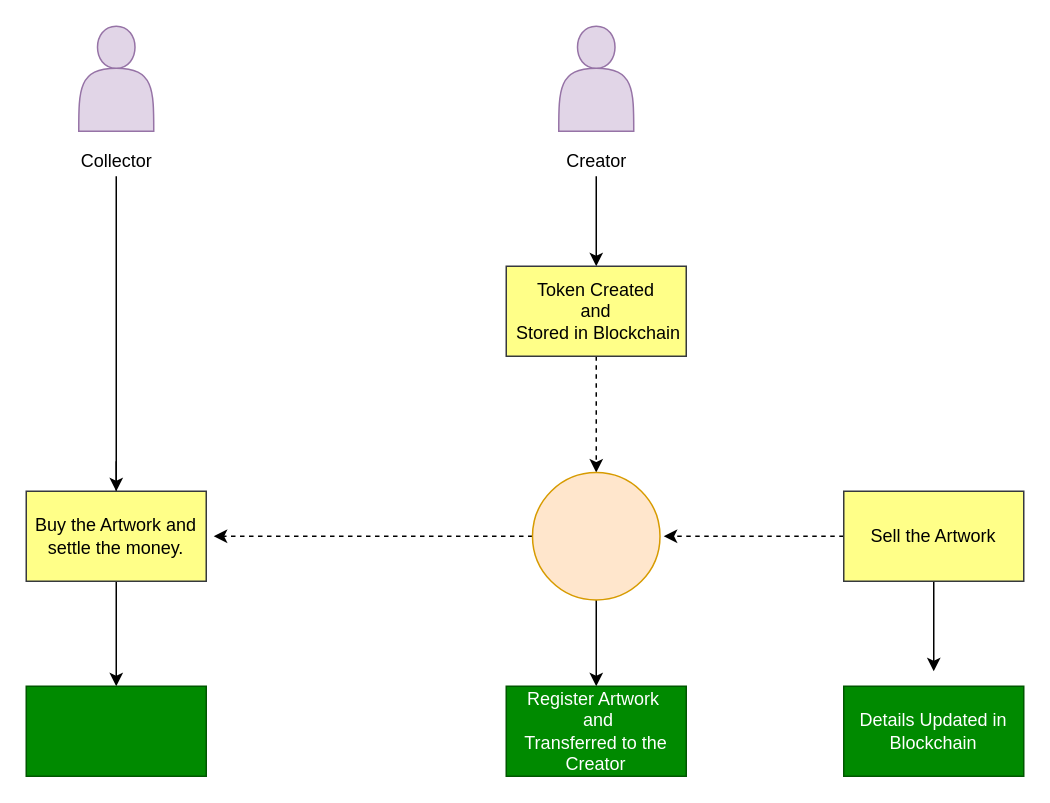
Some shapes in this 1050 by 803 pixel diagram are drawn without their labels. Here are the shapes that lost their labels. From the top down, the box of each, then its label:
(531, 471, 660, 600): KCTA Token
(25, 685, 206, 776): Token Transferred to the Collector
